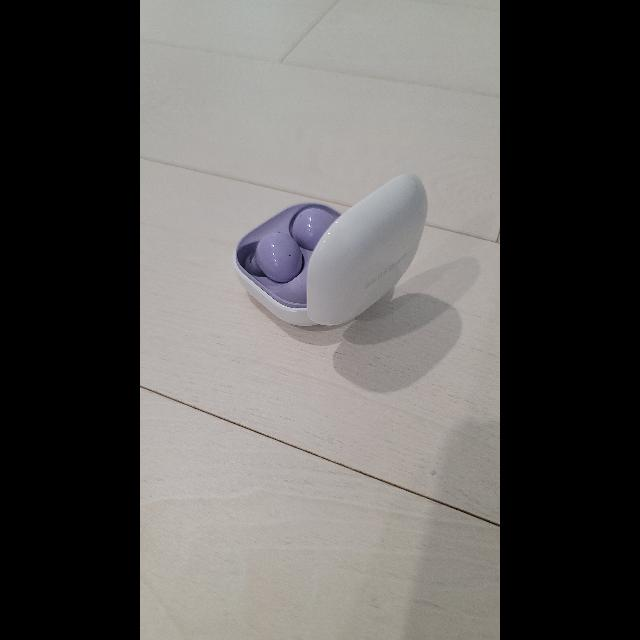GALAXY-BUDS-2: (234, 174, 428, 326)
